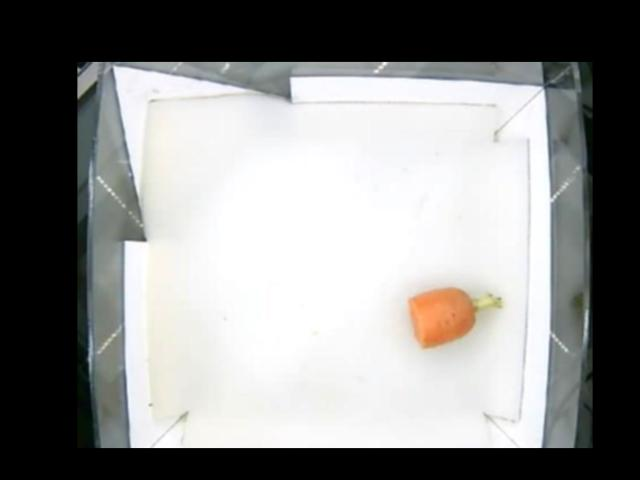Carrot: (409, 288, 504, 342)
